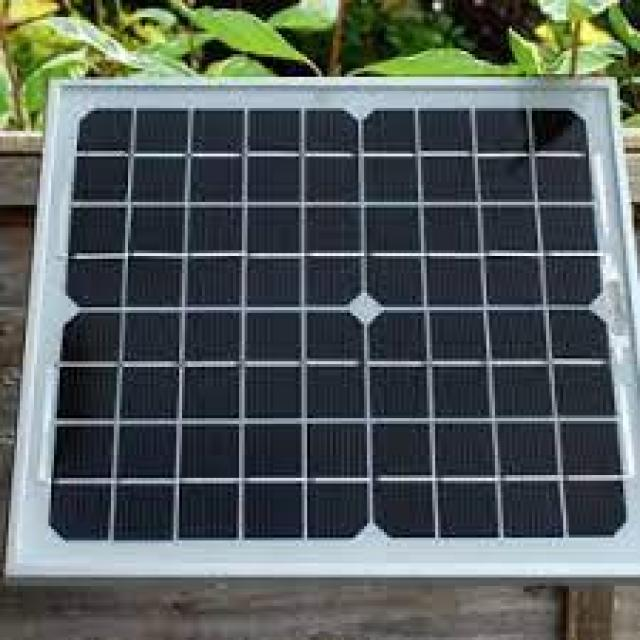no faulty: (65, 101, 607, 555)
